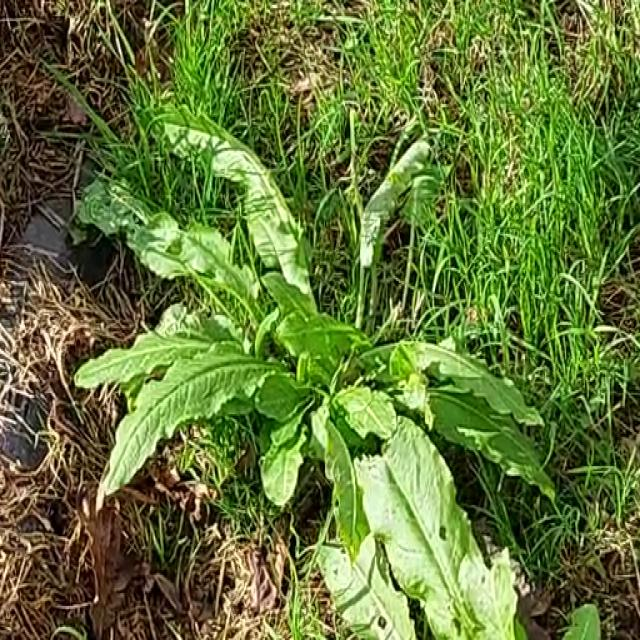organic waste: (28, 83, 534, 614)
